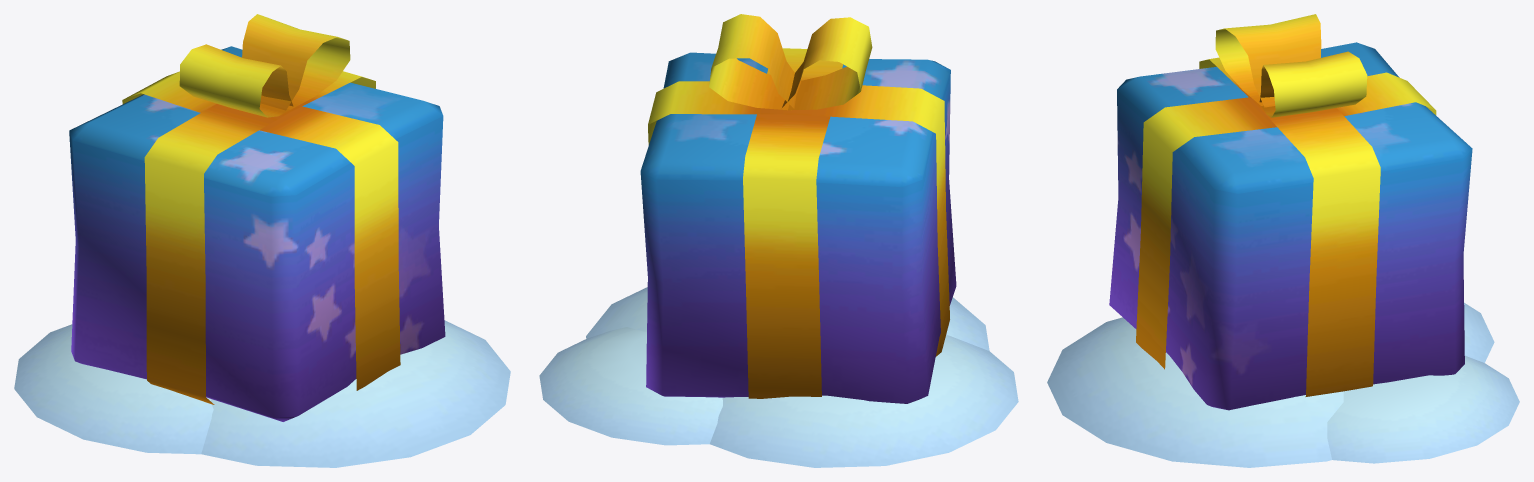
Rendered from FloorDecoXmas-007_02_14_9804.fbx.
3 views of the same model, side by side, from view 1: azimuth 30°, elevation 25°; view 2: azimuth 150°, elevation 25°; view 3: azimuth 270°, elevation 25° (orthographic).
Parts seen in each view (by area): view 1: xmas_deco_05; view 2: xmas_deco_05; view 3: xmas_deco_05.
Boxes of the visible parts, <box> form: xmas_deco_05: <box>14,14,510,467</box>; xmas_deco_05: <box>539,14,1018,467</box>; xmas_deco_05: <box>1047,14,1519,467</box>.
Size of the model in its own units: 1.47 by 1.12 by 1.45.
